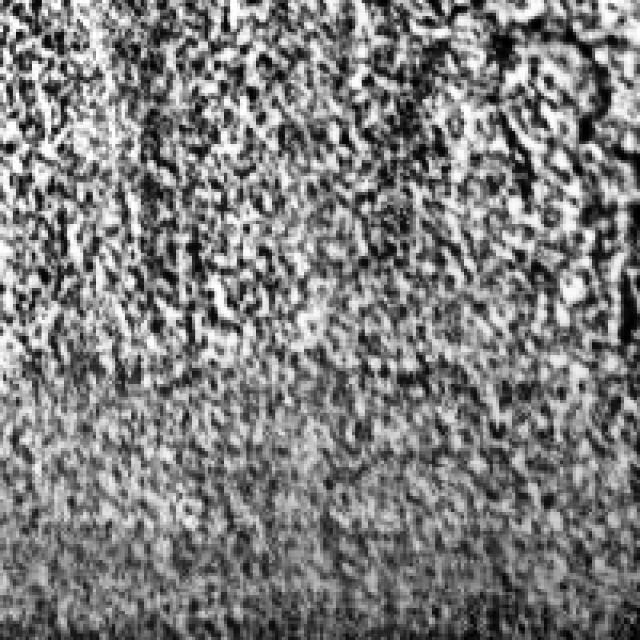Rolled_in_Scale: (67, 0, 634, 448)
